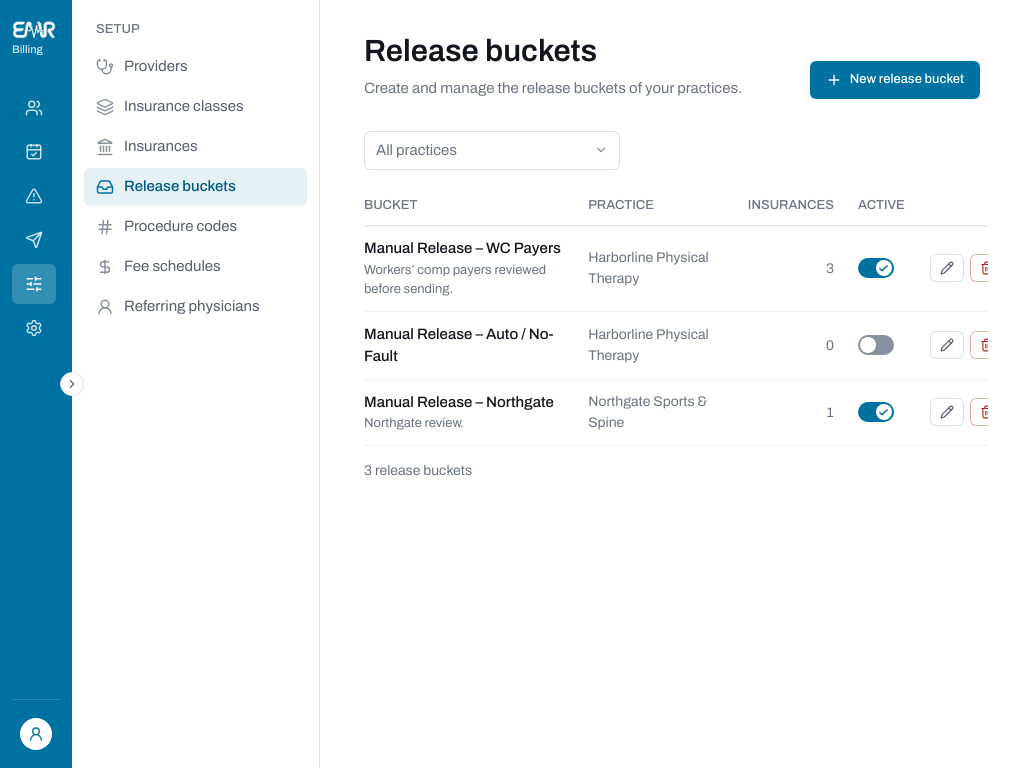
Scenario: Setup → Release buckets › edits a bucket with its values filled in and its practice kept
Click the button named "Edit Manual Release – WC Payers": coordinates (947, 268) [930,254,964,282]
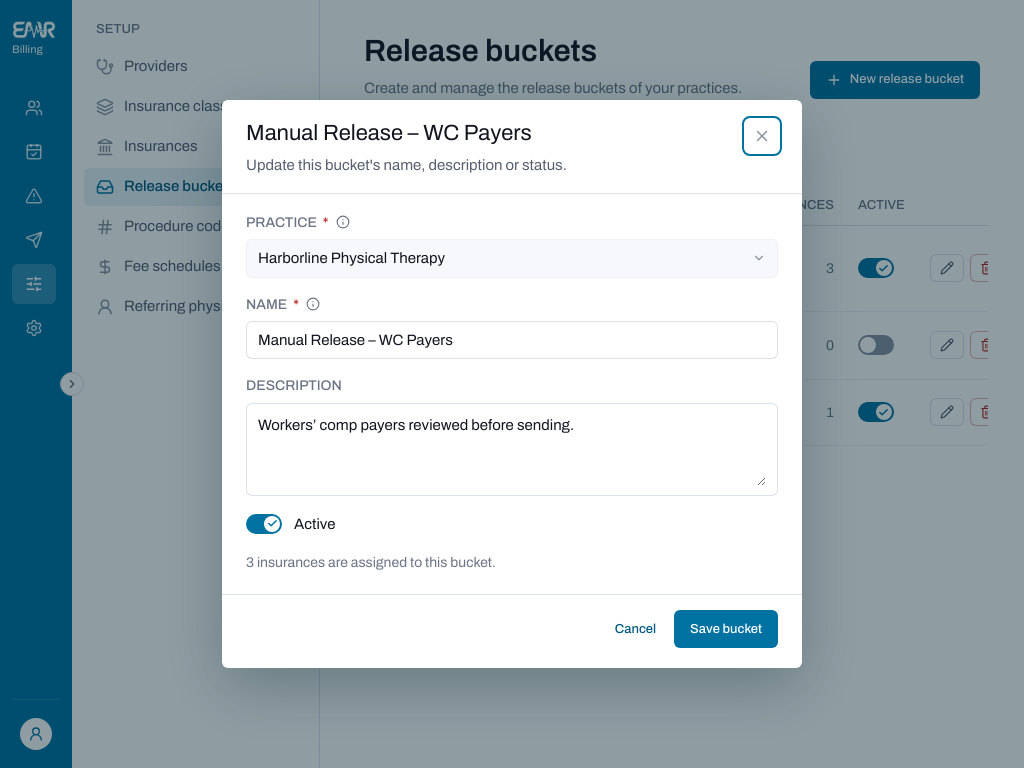
Check: the text "3 insurances are assigned to this bucket." is shown, box [246,555,496,570]
Check: the dropdown named "practice" reads "Harborline Physical Therapy", box [246,239,778,278]
Check: the field labelled "Name *" holds "Manual Release – WC Payers", box [258,321,766,359]
Replace the text in the text box labelled "Description" with "Reviewed by the WC team.": coordinates (512, 449) [258,412,766,486]
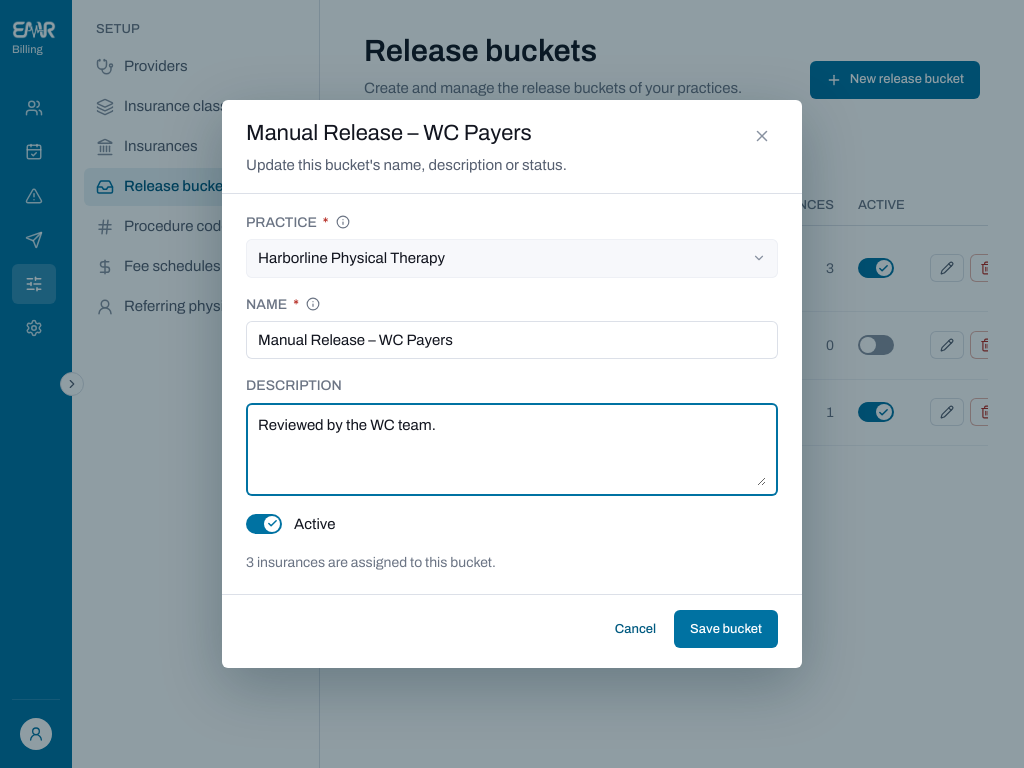
Click the button "Save bucket": coordinates (726, 629) [674,610,778,648]
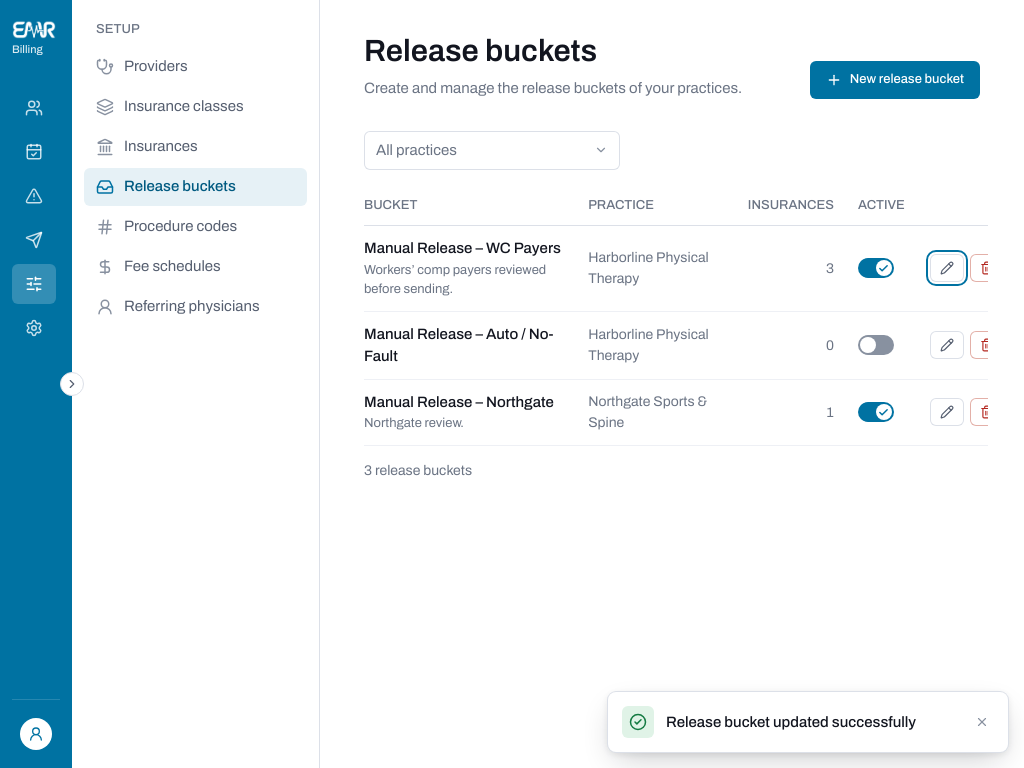
Check: the dialog is gone
Check: the message reads "Release bucket updated successfully", box [666,714,916,730]
